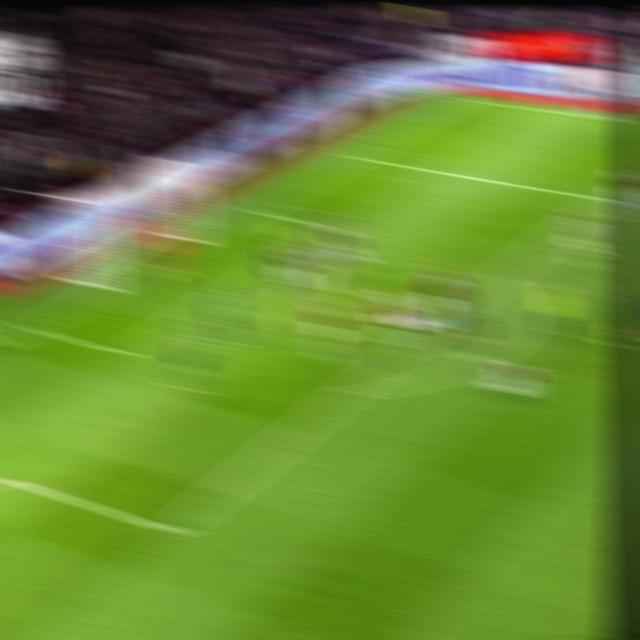bigarea_bottom_inner: (146, 509, 191, 551)
bigarea_top_inner: (590, 189, 619, 208)
bigarea_top_outter: (342, 147, 369, 164)
bottom_arc_area_intersection: (333, 379, 368, 404)
corner: (446, 93, 477, 105)
smallarea_bottom_inner: (105, 336, 141, 367)
smallarea_bottom_outter: (15, 313, 51, 342)
smallarea_top_inner: (318, 220, 346, 236)
smallarea_top_outter: (239, 200, 271, 222)
top_arc_area_intersection: (490, 266, 517, 284)
